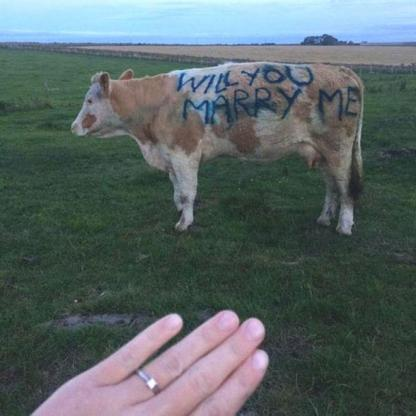cow: (71, 62, 364, 234)
